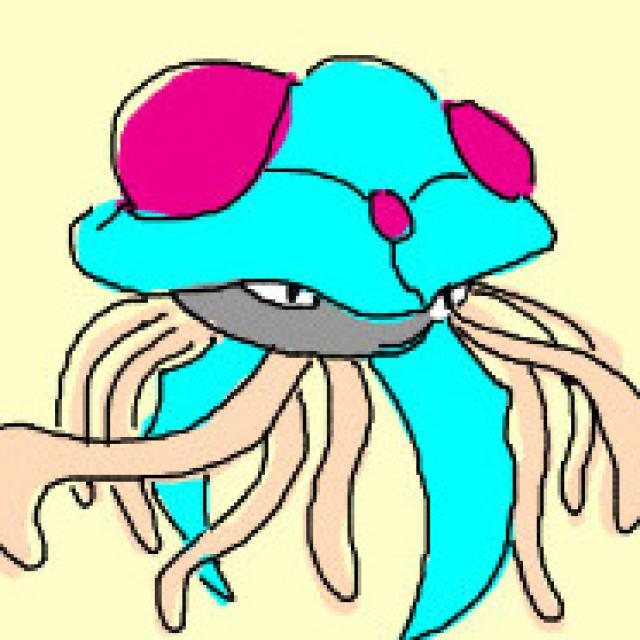Tentacruel: (65, 51, 561, 622)
